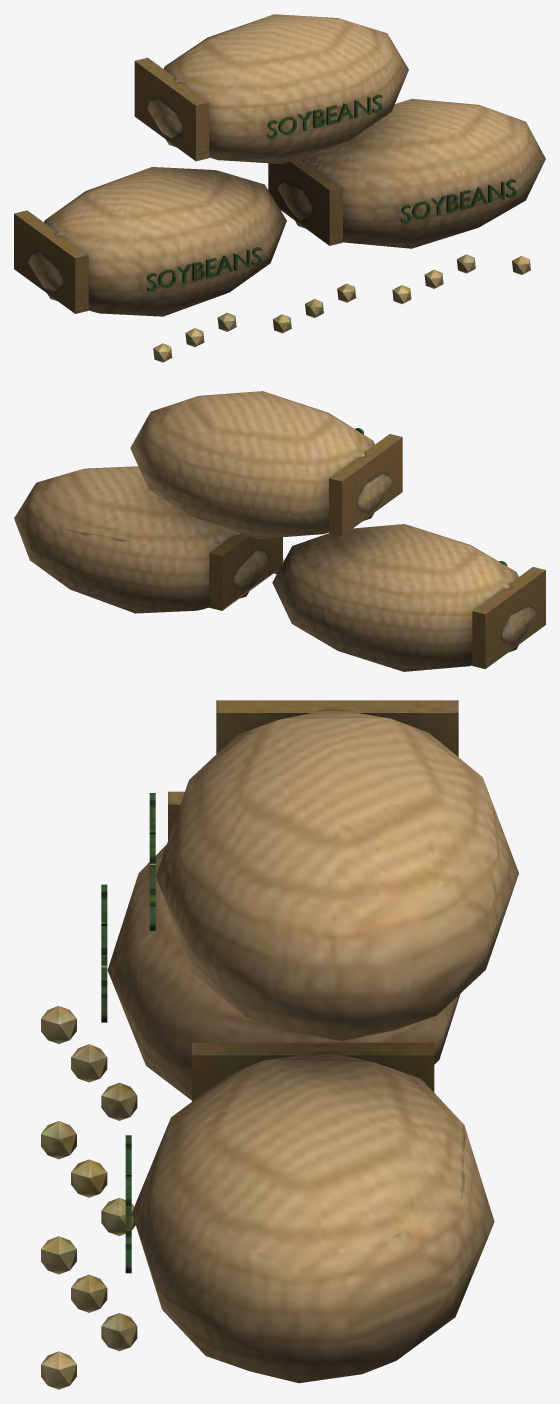
File: sacos_soja.glb
3 views of the same model, one above another, from view 1: azimuth 30°, elevation 25°; view 2: azimuth 150°, elevation 25°; view 3: azimuth 270°, elevation 25° (orthographic). The views are drawn at different scales.
Visible parts, largest first — view 1: sacos_soja; view 2: sacos_soja; view 3: sacos_soja.
Boxes of the visible parts, <box> form: sacos_soja: <box>14,14,545,362</box>; sacos_soja: <box>14,391,545,671</box>; sacos_soja: <box>41,700,518,1389</box>.
Size of the model in its own units: 1.87 by 0.86 by 0.7897.
Materials: 1 (1 with a texture image).
